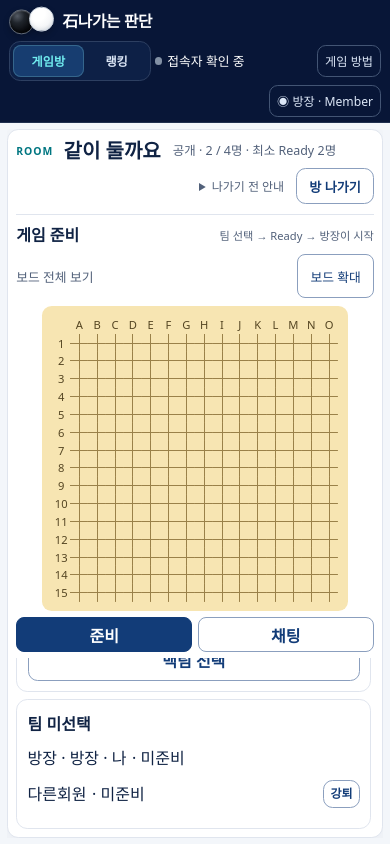
Test: waiting owner kick › withdraws confirmation if ownership changes before submit
(page scrolled)
Click the button with aria-label "다른회원 강퇴" at (342, 794), box [323,780,360,808]
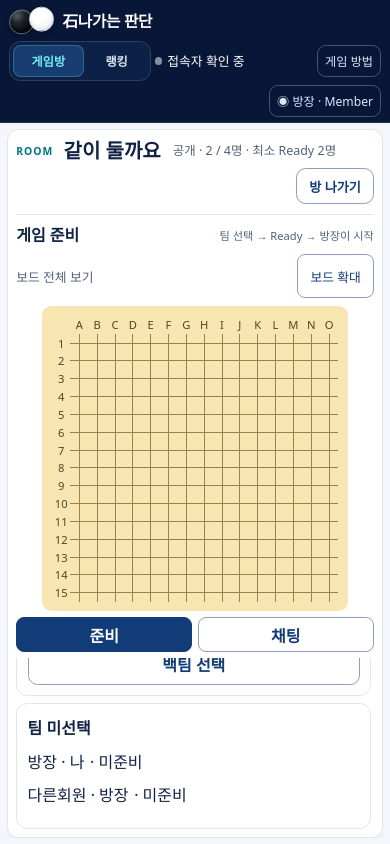
Expected: the button "강퇴" is gone
